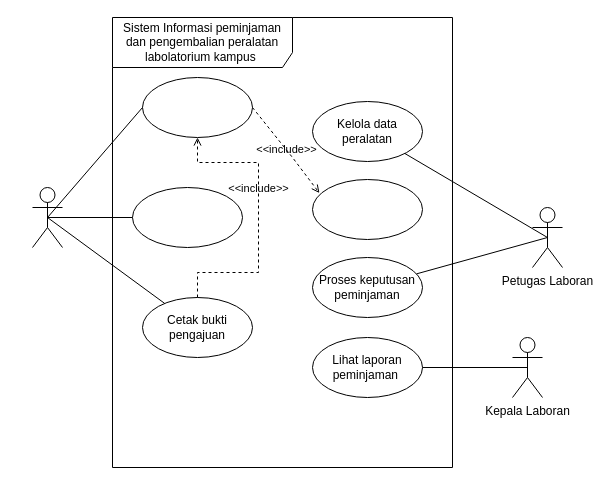
Some shapes in this 610 by 485 pixel diagram are drawn without their labels. Each missing label, with the centre of its shape:
Ajukan peminjaman: pixel 197 107
Lihat ketersediaan peralatan: pixel 187 217
Mahasiswa: pixel 47 217
Periksa ketersediaan: pixel 367 209
